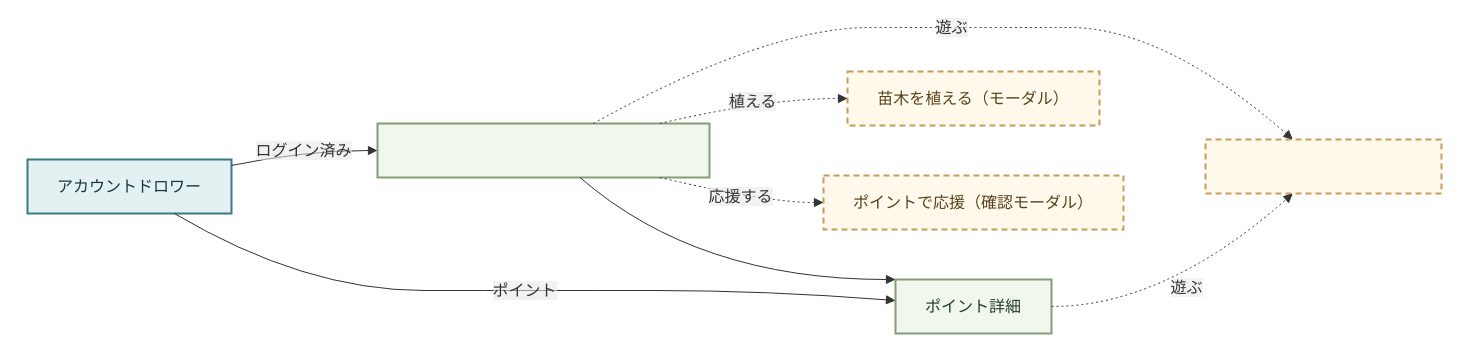
Some shapes in this 1459 by 351 pixel diagram are drawn without their labels. The shapes that lost their labels are listed below. From the top down, each one's centre as x and y in pixels, then its label:
At point 543,150: "マイページ（わたしの森・応援活動）".
At point 1323,166: "ミニゲーム（モーダル）".
